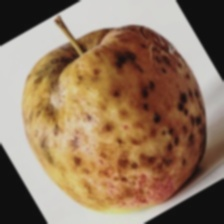apple: (24, 34, 213, 173)
